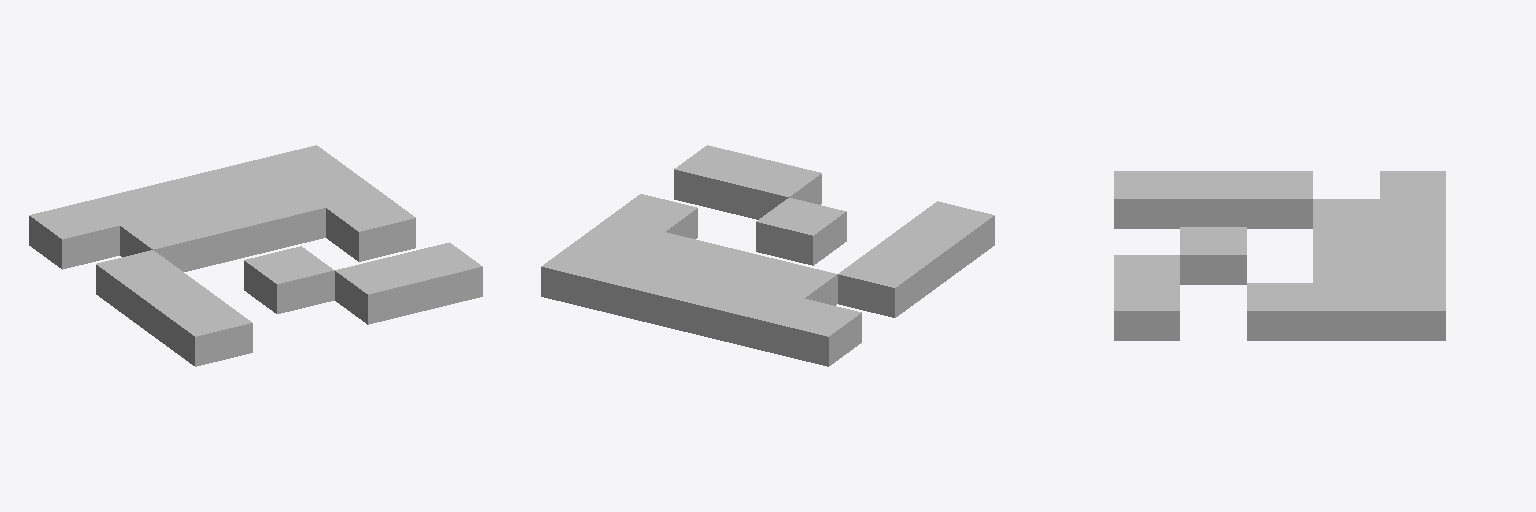
The model's file is 51f_block.obj.
The picture shows the model from 3 angles: view 1: azimuth 30°, elevation 25°; view 2: azimuth 150°, elevation 25°; view 3: azimuth 270°, elevation 25°; orthographic projection.
Visible parts, largest first — view 1: foil.block.0.4_block.4272, foil.block.0.0_block.4268, foil.block.2.1_block.4275, foil.block.3.0_block.4278, foil.block.4.2_block.4282, foil.block.1.3_block.4273, foil.block.4.0_block.4281, foil.block.3.3_block.4279, foil.block.2.3_block.4276, foil.block.0.2_block.4270, foil.block.0.1_block.4269, foil.block.4.3_block.4283 (+4 smaller); view 2: foil.block.0.4_block.4272, foil.block.2.1_block.4275, foil.block.0.2_block.4270, foil.block.3.0_block.4278, foil.block.4.4_block.4284, foil.block.2.4_block.4277, foil.block.4.0_block.4281, foil.block.1.4_block.4274, foil.block.3.4_block.4280, foil.block.0.1_block.4269, foil.block.0.0_block.4268, foil.block.1.3_block.4273 (+4 smaller); view 3: foil.block.2.1_block.4275, foil.block.4.3_block.4283, foil.block.0.0_block.4268, foil.block.0.2_block.4270, foil.block.4.0_block.4281, foil.block.4.2_block.4282, foil.block.4.4_block.4284, foil.block.0.1_block.4269, foil.block.1.3_block.4273, foil.block.2.3_block.4276, foil.block.3.3_block.4279, foil.block.0.4_block.4272 (+4 smaller).
Boxes of the visible parts, x1,y1,x2,y2 form: foil.block.0.4_block.4272: [29, 201, 119, 269]; foil.block.0.0_block.4268: [162, 298, 252, 366]; foil.block.2.1_block.4275: [244, 246, 334, 313]; foil.block.3.0_block.4278: [335, 257, 424, 324]; foil.block.4.2_block.4282: [326, 194, 415, 261]; foil.block.1.3_block.4273: [120, 212, 210, 271]; foil.block.4.0_block.4281: [392, 242, 482, 310]; foil.block.3.3_block.4279: [235, 183, 325, 251]; foil.block.2.3_block.4276: [177, 198, 267, 265]; foil.block.0.2_block.4270: [96, 250, 184, 317]; foil.block.0.1_block.4269: [129, 274, 218, 341]; foil.block.4.3_block.4283: [293, 169, 382, 207]; foil.block.0.4_block.4272: [771, 298, 861, 366]; foil.block.2.1_block.4275: [756, 198, 846, 265]; foil.block.0.2_block.4270: [838, 250, 927, 317]; foil.block.3.0_block.4278: [732, 159, 821, 219]; foil.block.4.4_block.4284: [541, 242, 631, 310]; foil.block.2.4_block.4277: [656, 270, 746, 338]; foil.block.4.0_block.4281: [674, 145, 763, 213]; foil.block.1.4_block.4274: [714, 285, 803, 352]; foil.block.3.4_block.4280: [599, 257, 688, 324]; foil.block.0.1_block.4269: [871, 226, 961, 293]; foil.block.0.0_block.4268: [904, 201, 994, 268]; foil.block.1.3_block.4273: [747, 260, 837, 305]; foil.block.2.1_block.4275: [1180, 227, 1246, 284]; foil.block.4.3_block.4283: [1313, 283, 1379, 340]; foil.block.0.0_block.4268: [1114, 171, 1179, 228]; foil.block.0.2_block.4270: [1247, 171, 1312, 228]; foil.block.4.0_block.4281: [1114, 283, 1179, 340]; foil.block.4.2_block.4282: [1247, 283, 1312, 340]; foil.block.4.4_block.4284: [1380, 283, 1445, 340]; foil.block.0.1_block.4269: [1180, 171, 1246, 226]; foil.block.1.3_block.4273: [1313, 199, 1379, 226]; foil.block.2.3_block.4276: [1313, 227, 1379, 254]; foil.block.3.3_block.4279: [1313, 255, 1379, 282]; foil.block.0.4_block.4272: [1380, 171, 1445, 198].
Bounding box in the file's own units: 10 × 1 × 10.